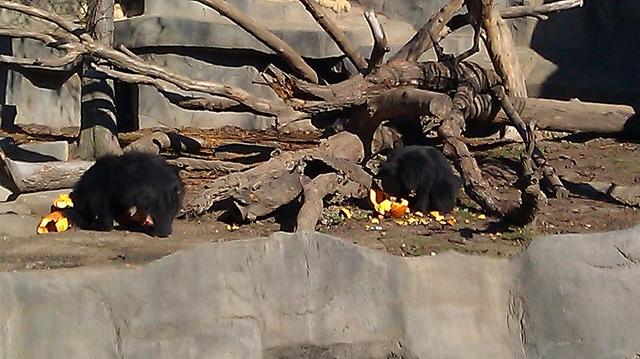pumpkin: (368, 188, 410, 218), (36, 211, 72, 235), (53, 193, 73, 208)
